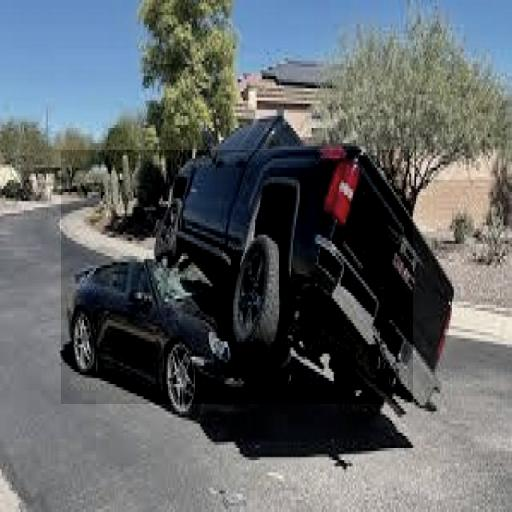小汽车撞小汽车: (61, 150, 413, 404)
